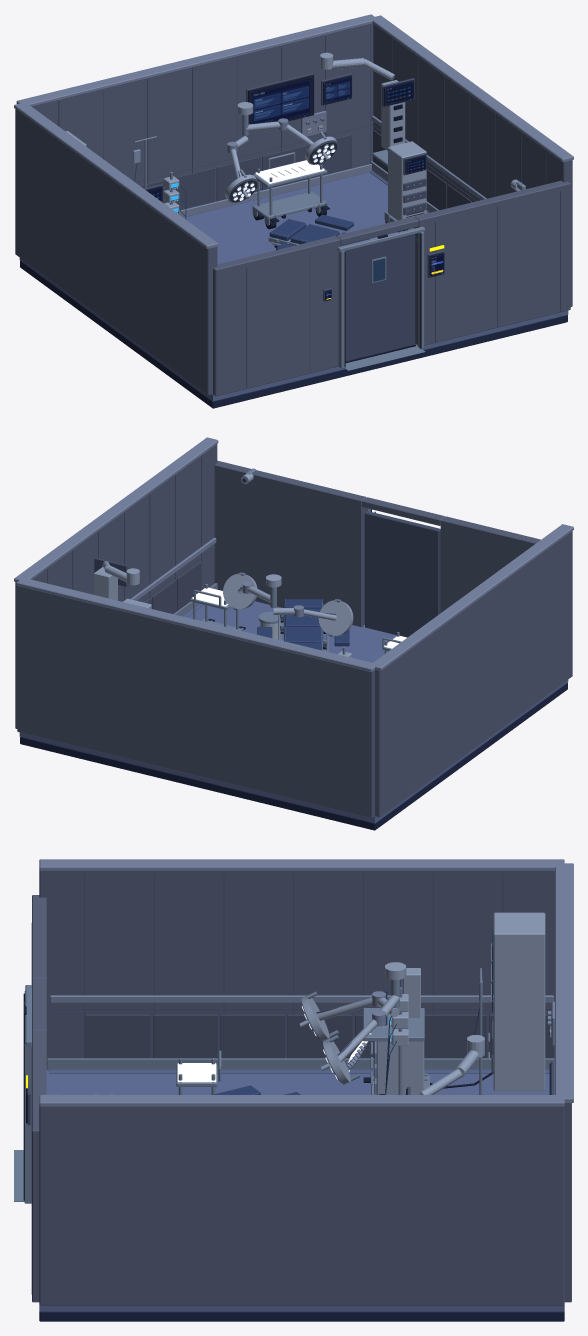
The model's file is pcho-3.glb.
3 renders of one model, top to bottom at view 1: azimuth 30°, elevation 25°; view 2: azimuth 150°, elevation 25°; view 3: azimuth 270°, elevation 25°, orthographic. The views are drawn at different scales.
Parts seen in each view (by area): view 1: PCHO3/Architecture/0, PCHO3/Architecture/1, PCHO3/Architecture/2, PCHO3/Architecture/3, PCHO3/Architecture/16, PCHO3/Architecture/4, PCHO3/Architecture/5, PCHO3/VideoManagement/21, PCHO3/Furniture/5, PCHO3/Furniture/6, PCHO3/CeilingBooms/6, PCHO3/Table/8 (+7 smaller); view 2: PCHO3/Architecture/0, PCHO3/Architecture/1, PCHO3/Architecture/2, PCHO3/Architecture/3, PCHO3/Architecture/4, PCHO3/SurgicalLights/6, PCHO3/Table/8, PCHO3/Architecture/16, PCHO3/CeilingBooms/6, PCHO3/Furniture/5; view 3: PCHO3/Architecture/0, PCHO3/Architecture/1, PCHO3/Architecture/16, PCHO3/Architecture/3, PCHO3/Furniture/6, PCHO3/Architecture/5, PCHO3/Architecture/4, PCHO3/Anaesthesia/6, PCHO3/SurgicalLights/6, PCHO3/Architecture/2, PCHO3/Anaesthesia/5, PCHO3/CeilingBooms/6 (+2 smaller).
Part boxes in pixels (box(x1,y1,x2,y2)): PCHO3/Architecture/0: box(15, 23, 572, 396); PCHO3/Architecture/1: box(14, 14, 573, 248); PCHO3/Architecture/2: box(58, 25, 560, 387); PCHO3/Architecture/3: box(19, 170, 568, 401); PCHO3/Architecture/16: box(140, 130, 471, 210); PCHO3/Architecture/4: box(20, 260, 567, 408); PCHO3/Architecture/5: box(337, 161, 438, 370); PCHO3/VideoManagement/21: box(252, 77, 350, 123); PCHO3/Furniture/5: box(252, 152, 425, 232); PCHO3/Furniture/6: box(66, 131, 426, 220); PCHO3/CeilingBooms/6: box(320, 52, 405, 150); PCHO3/Table/8: box(269, 214, 369, 249); PCHO3/Architecture/0: box(15, 444, 572, 818); PCHO3/Architecture/1: box(14, 437, 573, 671); PCHO3/Architecture/2: box(47, 456, 440, 637); PCHO3/Architecture/3: box(19, 601, 568, 823); PCHO3/Architecture/4: box(20, 682, 567, 830); PCHO3/SurgicalLights/6: box(223, 573, 353, 635); PCHO3/Table/8: box(257, 599, 349, 650); PCHO3/Architecture/16: box(145, 561, 201, 613); PCHO3/CeilingBooms/6: box(94, 561, 139, 600); PCHO3/Furniture/5: box(190, 584, 401, 653); PCHO3/Architecture/0: box(32, 870, 571, 1305); PCHO3/Architecture/1: box(39, 859, 573, 1106); PCHO3/Architecture/16: box(85, 1014, 554, 1058); PCHO3/Architecture/3: box(39, 1069, 564, 1311); PCHO3/Furniture/6: box(493, 912, 545, 1090); PCHO3/Architecture/5: box(14, 985, 554, 1203); PCHO3/Architecture/4: box(39, 1311, 564, 1321); PCHO3/Anaesthesia/6: box(376, 968, 424, 1094); PCHO3/SurgicalLights/6: box(299, 962, 406, 1084); PCHO3/Architecture/2: box(24, 872, 554, 1294); PCHO3/Anaesthesia/5: box(363, 987, 429, 1094); PCHO3/CeilingBooms/6: box(419, 1035, 484, 1094).
Bounding box in the file's own units: 7.03 × 3.09 × 6.82.
Materials: 21 (3 with a texture image).
